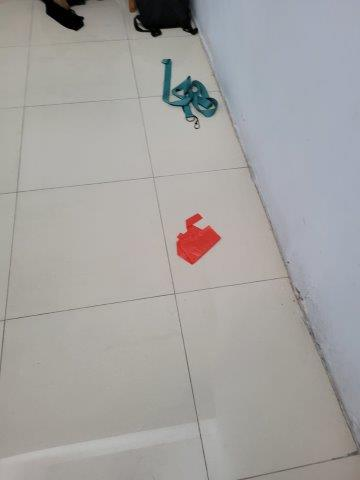plastik: (171, 214, 223, 267)
